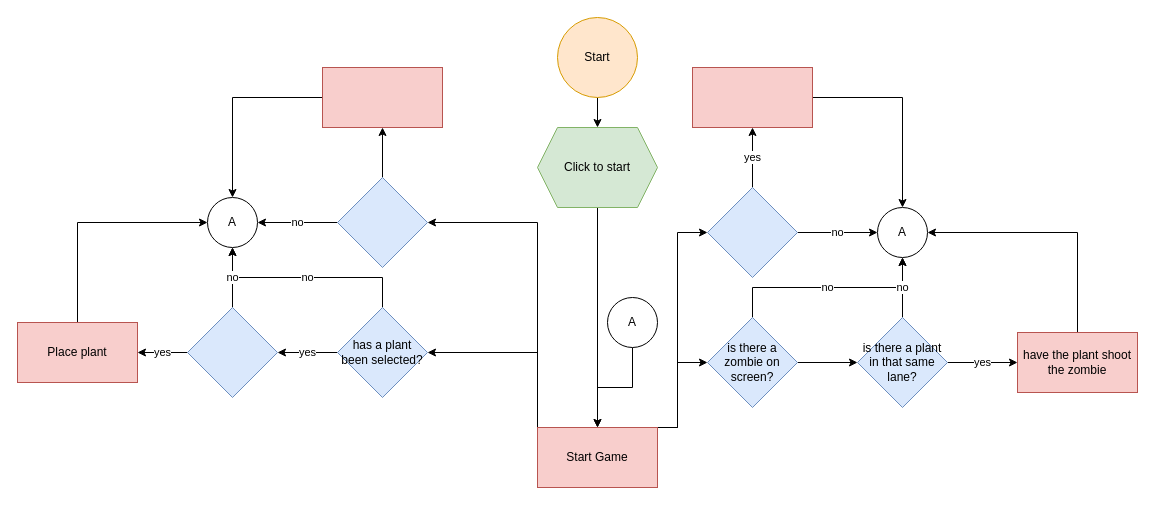
Some shapes in this 1155 by 505 pixel diagram are drawn without their labels. The shapes that lost their labels are listed below. From the top down, each one's box as (x1, y1, x2, y2) in pixels, then its label:
(322, 66, 442, 128): Add 25 sun
(692, 66, 812, 128): End Game, Pull up game over screen
(336, 176, 428, 268): has a sun been collected?
(706, 186, 798, 278): has a zombie reached the house?
(186, 306, 278, 398): has a slot been selected?
